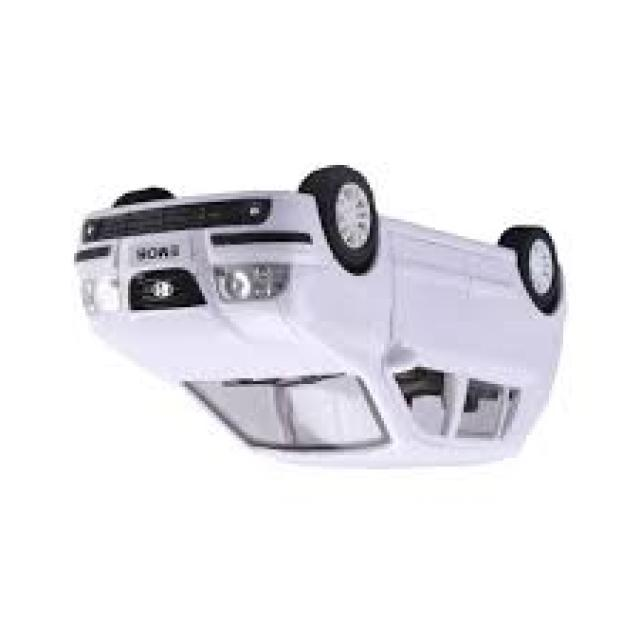Car: (77, 168, 563, 469)
